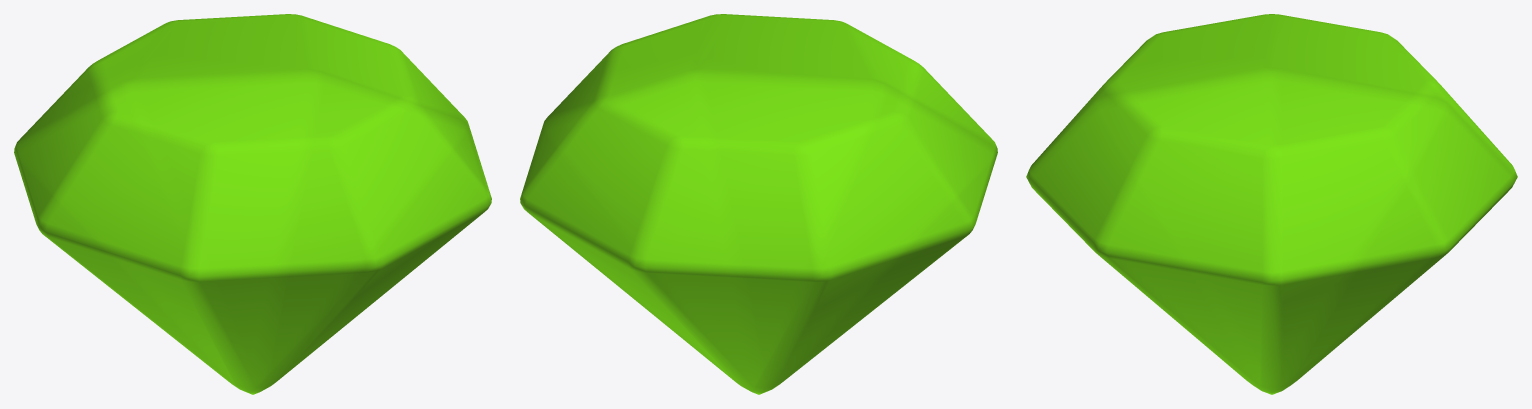
Rendered from Dimond-object.glb.
3 renders of one model, left to right at view 1: azimuth 30°, elevation 25°; view 2: azimuth 150°, elevation 25°; view 3: azimuth 270°, elevation 25°, orthographic.
Parts seen in each view (by area): view 1: defaultMaterial.005; view 2: defaultMaterial.005; view 3: defaultMaterial.005.
Boxes of the visible parts, <box> form: defaultMaterial.005: <box>14,14,491,394</box>; defaultMaterial.005: <box>520,14,997,394</box>; defaultMaterial.005: <box>1026,14,1517,394</box>.
Bounding box in the file's own units: 29.33 × 20.7 × 29.33.
Materials: 1 (1 with a texture image).
